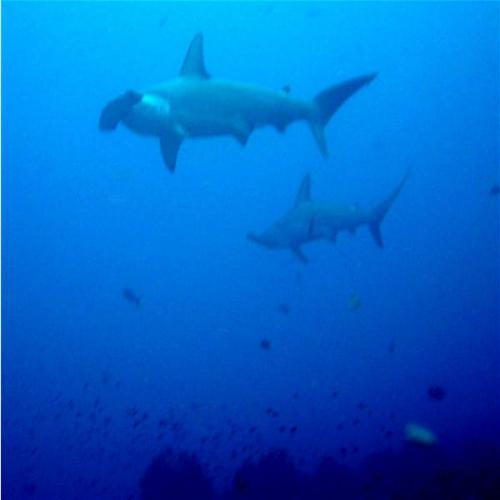shark-endangered: (99, 34, 380, 172), (245, 172, 412, 264)
